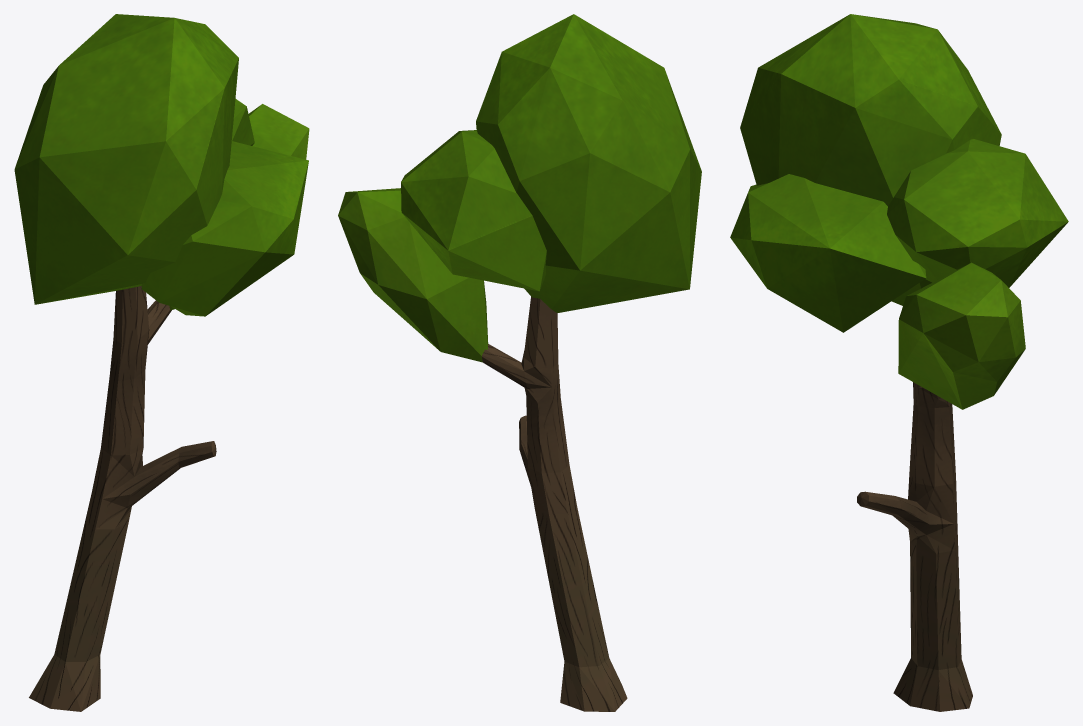
Rendered from Tree4.FBX.
3 renders of one model, left to right at view 1: azimuth 30°, elevation 25°; view 2: azimuth 150°, elevation 25°; view 3: azimuth 270°, elevation 25°, orthographic. The views are drawn at different scales.
Parts seen in each view (by area): view 1: Tree4; view 2: Tree4; view 3: Tree4.
Boxes of the visible parts, box(x1,y1,x2,y2) form: Tree4: box(14, 14, 309, 711); Tree4: box(338, 14, 701, 711); Tree4: box(730, 14, 1068, 711).
Size of the model in its own units: 746 by 653 by 1529.
